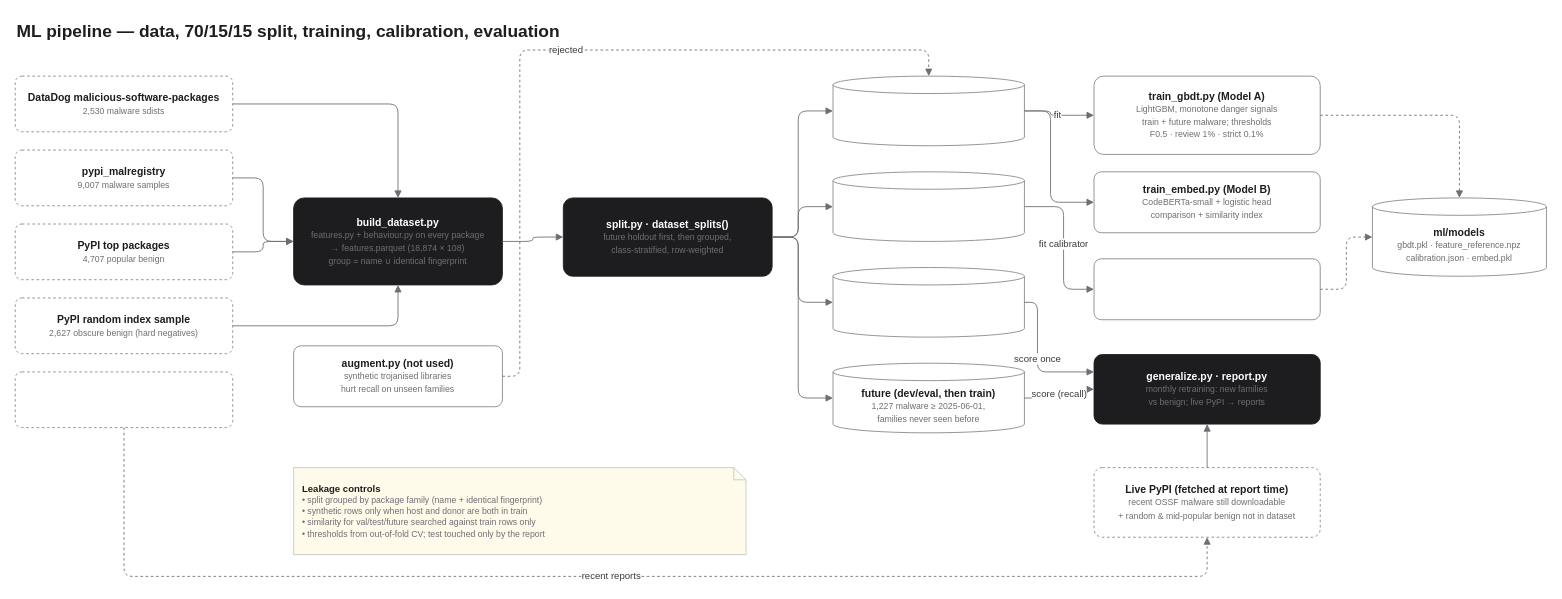
Some shapes in this 1562 by 599 pixel diagram are drawn without their labels. Here are the shapes that lost their labels. From the top down, the centre of each, then its label:
At [928,110]: "train 70% 12,210 packages".
At [928,206]: "validation 15% 2,789 (1,688 malware)".
At [928,302]: "test 15% 2,648 (1,546 malware)".
At [1206,289]: "calibrate.py logistic calibrator on validation similarity flag · tiers".
At [123,399]: "OSSF malicious-packages veto list + live eval".
